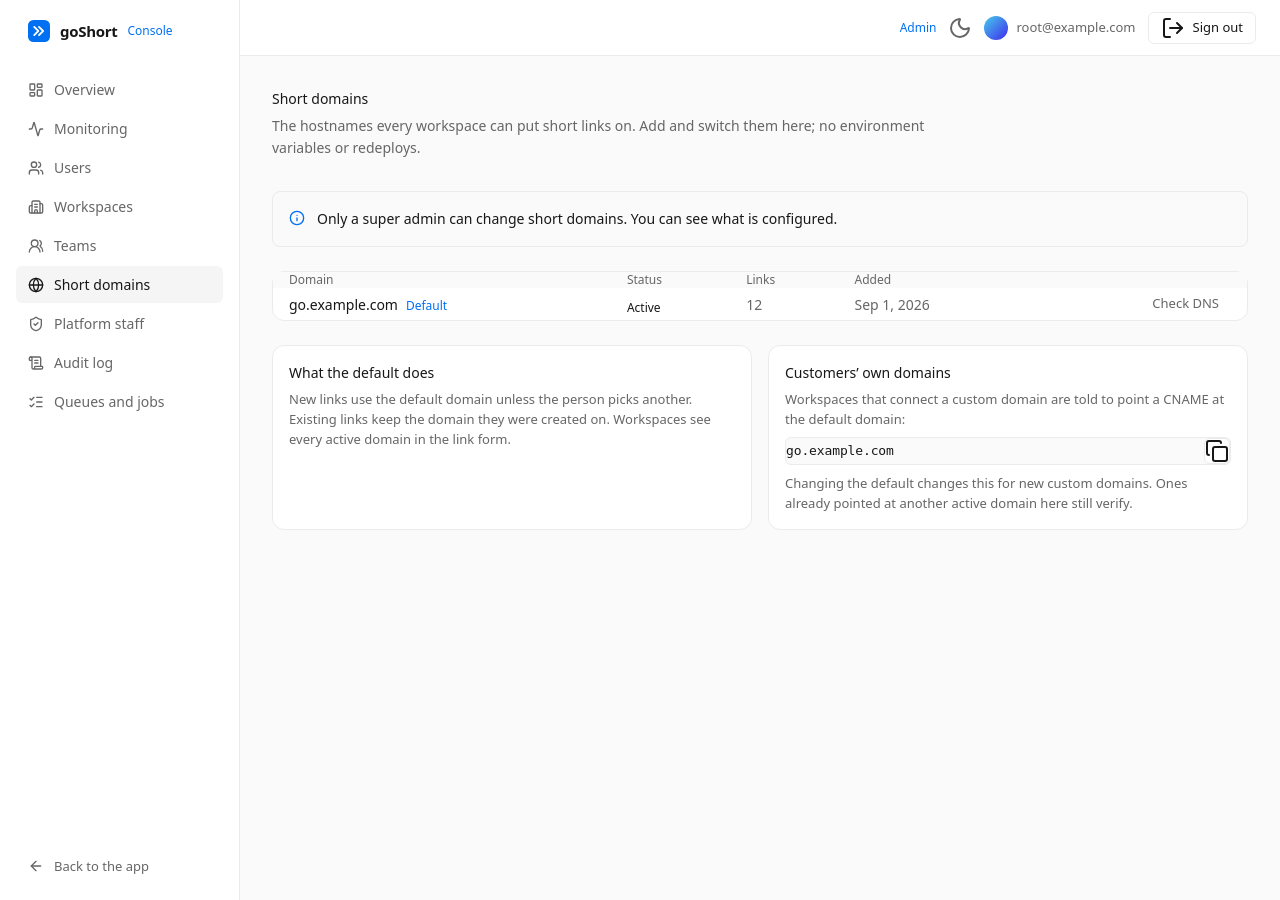
Test case: short domains › Check DNS reports a match as success
Click the button with aria-label "Check DNS for go.example.com" at (1186, 304), box [1140, 288, 1231, 320]
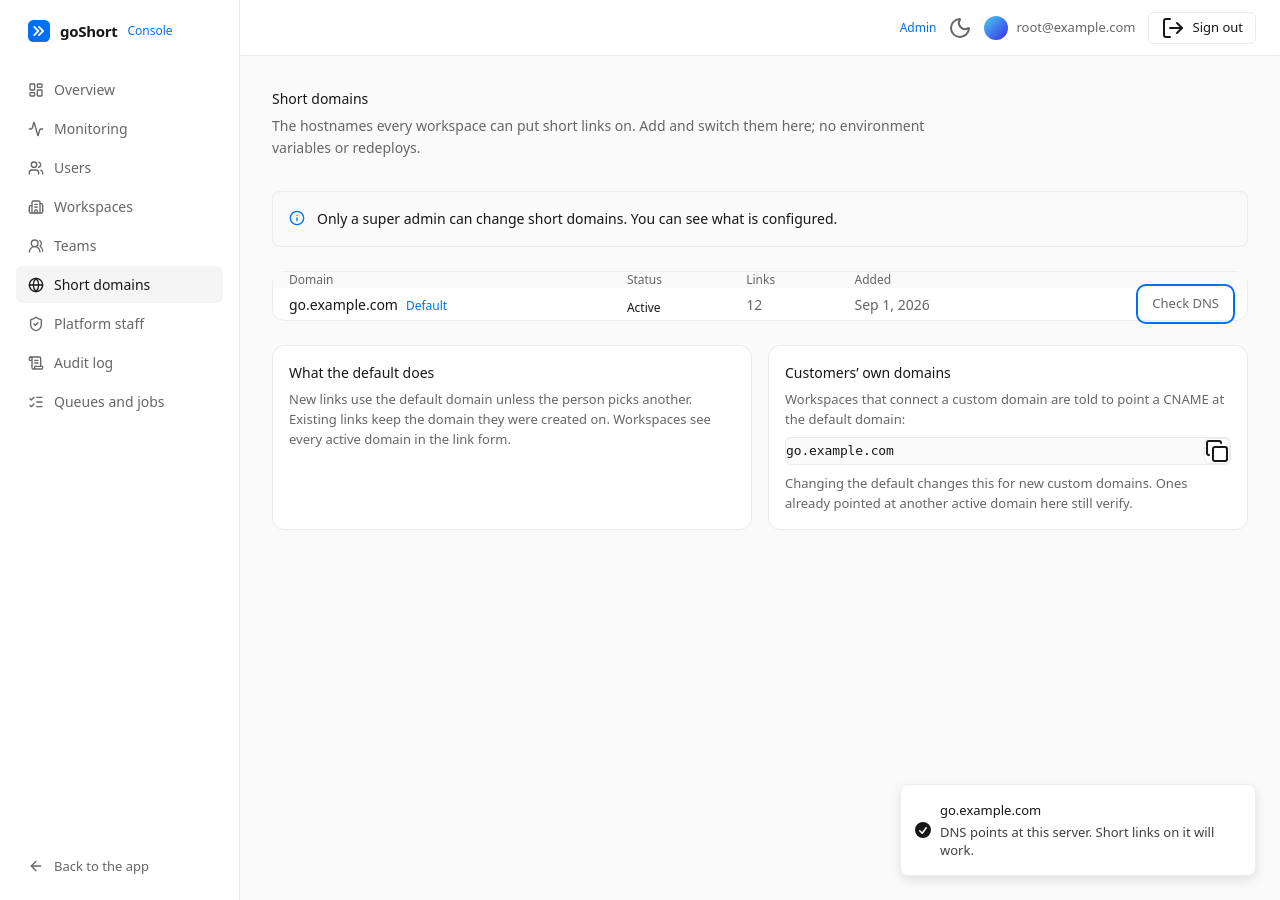
Expected: the text "DNS points at this server. Short links on it will work." is shown, [940, 823, 1239, 859]
